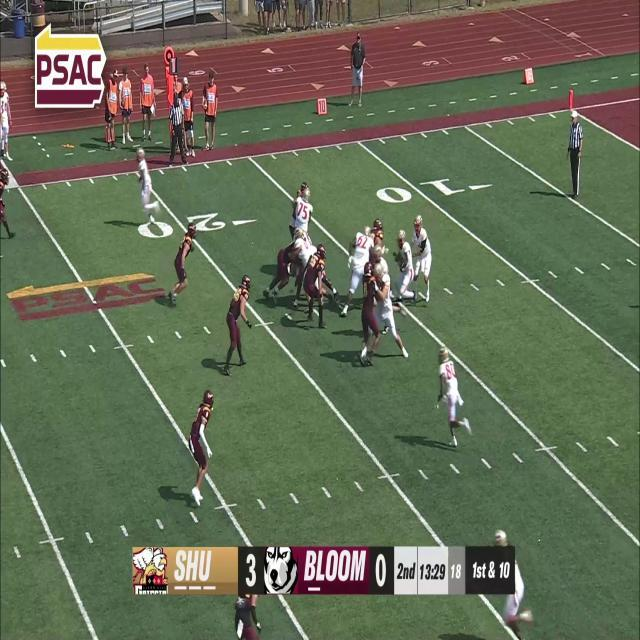football: (400, 259, 408, 271)
